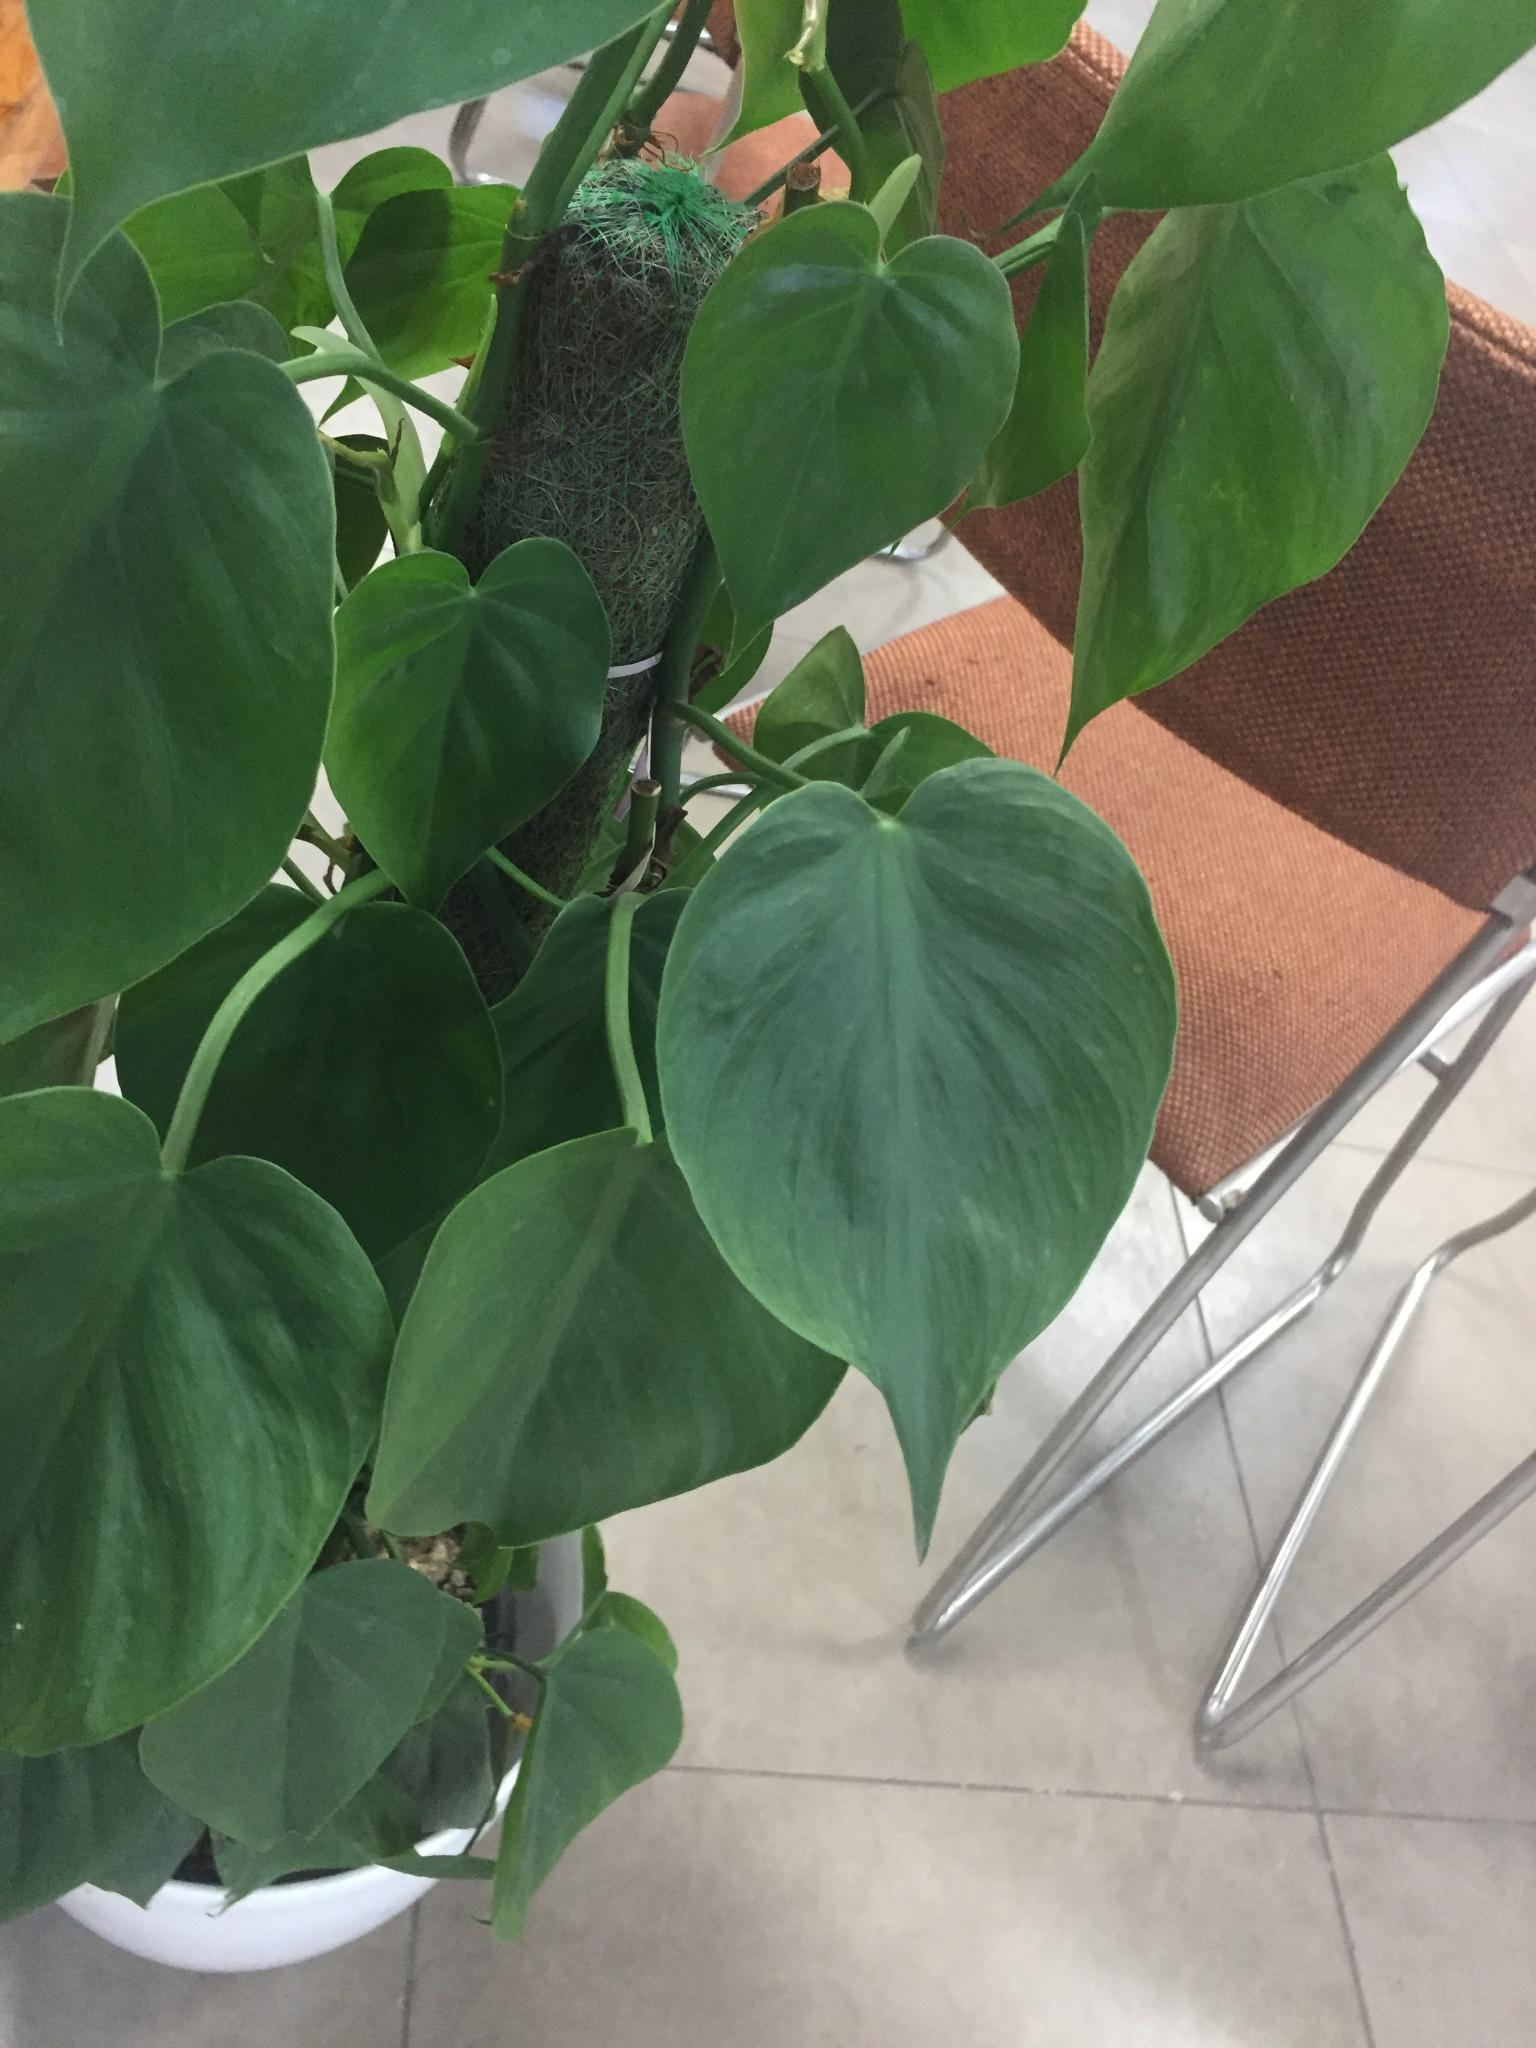chair: (605, 0, 1534, 1782)
